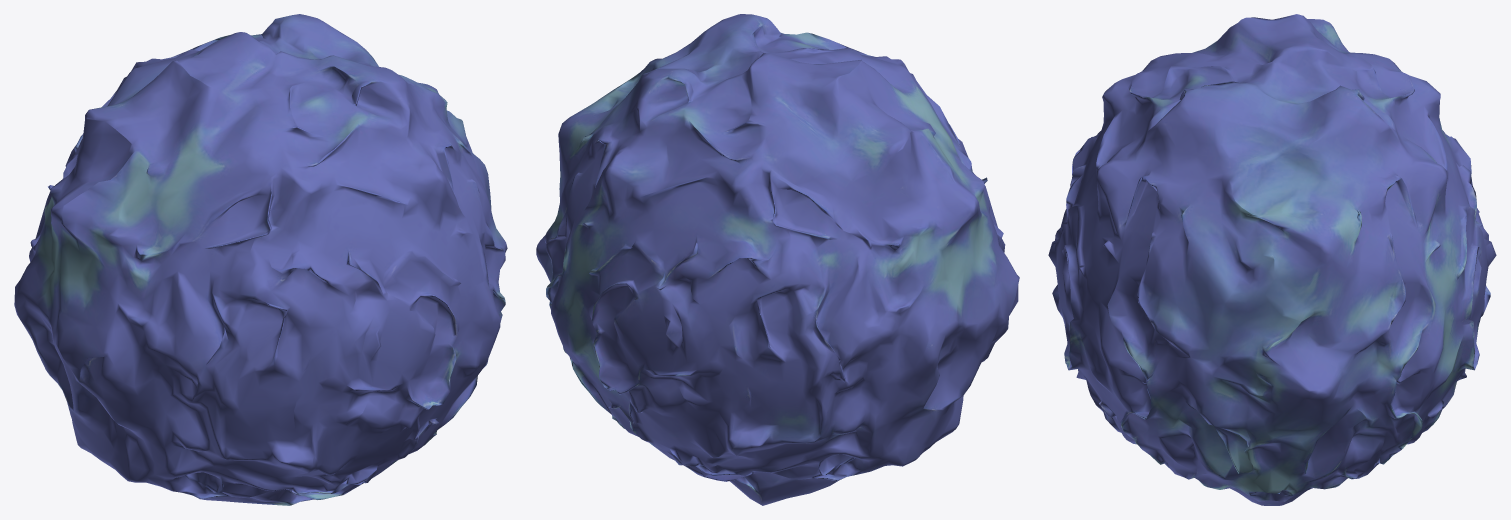
The model's file is glowing_energy_meteorite.glb.
The picture shows the model from 3 angles, left to right: view 1: azimuth 30°, elevation 25°; view 2: azimuth 150°, elevation 25°; view 3: azimuth 270°, elevation 25°; orthographic projection. The views are drawn at different scales.
Parts seen in each view (by area): view 1: tripo_node_603c0e63-cf51-4298-9314-6d9943710cf4; view 2: tripo_node_603c0e63-cf51-4298-9314-6d9943710cf4; view 3: tripo_node_603c0e63-cf51-4298-9314-6d9943710cf4.
Boxes of the visible parts, x1,y1,x2,y2 form: tripo_node_603c0e63-cf51-4298-9314-6d9943710cf4: (14, 14, 507, 505); tripo_node_603c0e63-cf51-4298-9314-6d9943710cf4: (536, 14, 1019, 505); tripo_node_603c0e63-cf51-4298-9314-6d9943710cf4: (1048, 14, 1496, 505).
Size of the model in its own units: 0.9807 by 0.9516 by 0.8733.
1 material, 1 textured.
